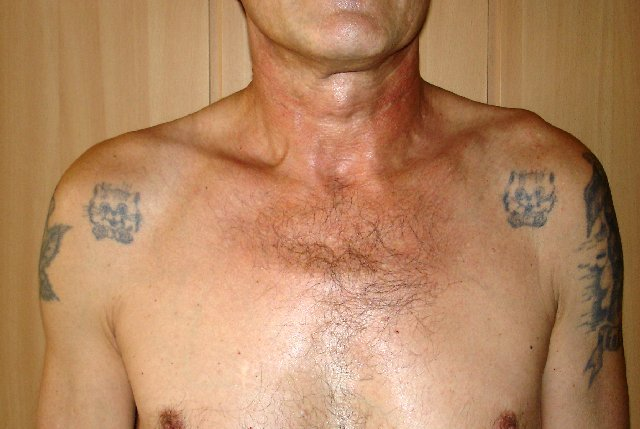tatu8_kot: (499, 169, 559, 233), (86, 182, 139, 248)
